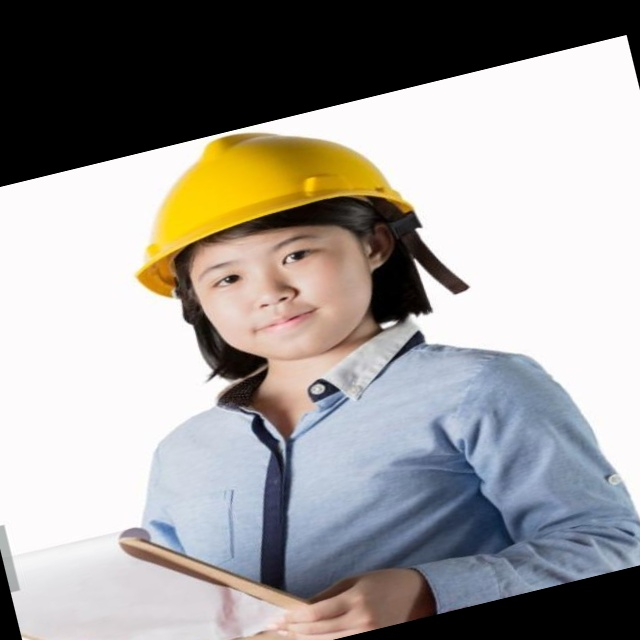Con_Casco: (108, 95, 447, 392)
Sin_Chaleco: (122, 310, 597, 640)
